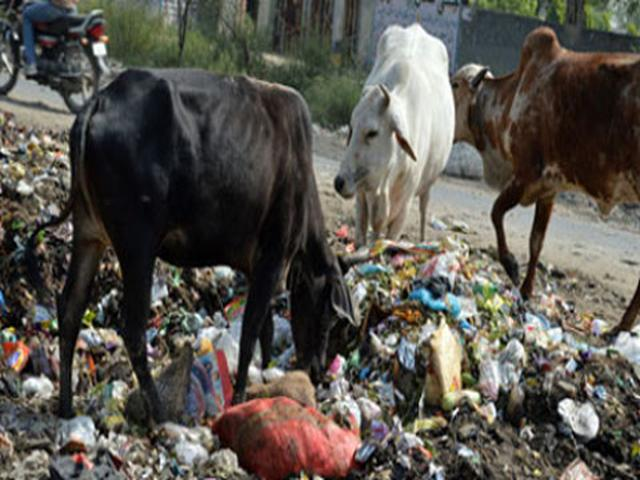garbage: (358, 256, 512, 461), (521, 298, 614, 474), (6, 124, 54, 462)
